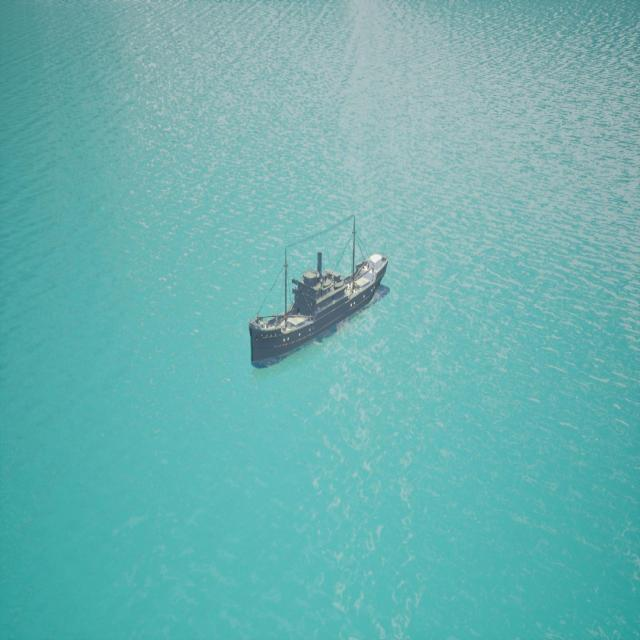fishing ship: (250, 256, 390, 369)
